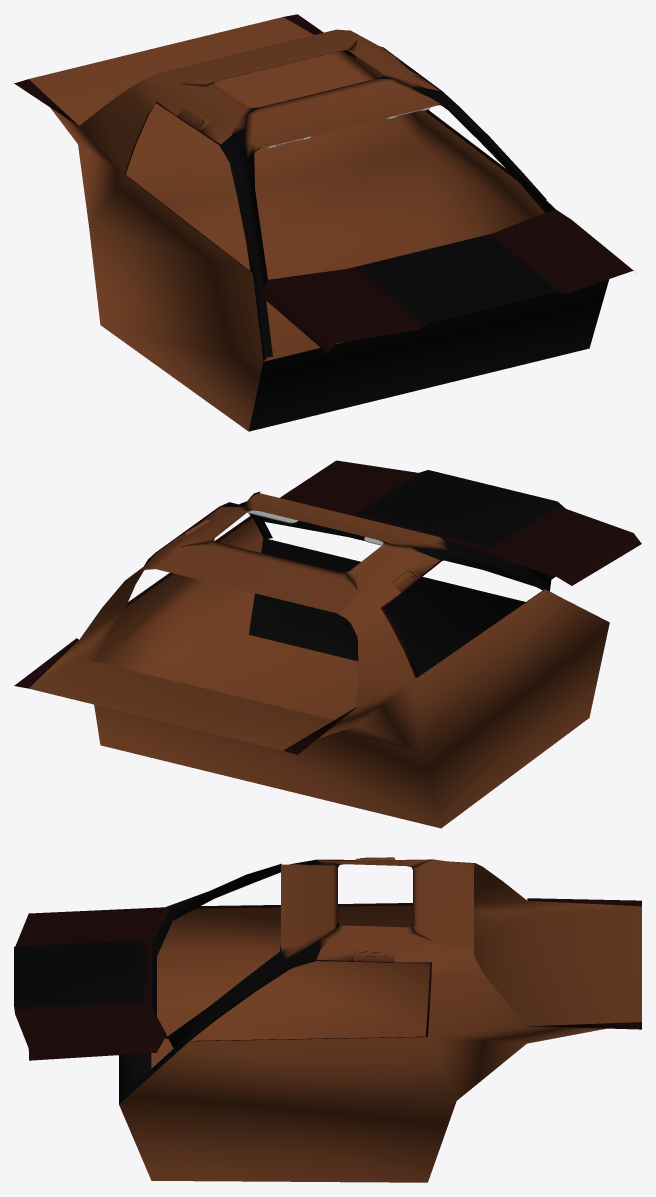
Rendered from VRCarBosy_V5 withVisors.fbx.
3 renders of one model, top to bottom at view 1: azimuth 30°, elevation 25°; view 2: azimuth 150°, elevation 25°; view 3: azimuth 270°, elevation 25°, orthographic. The views are drawn at different scales.
Parts seen in each view (by area): view 1: VRCarBody_V5; view 2: VRCarBody_V5; view 3: VRCarBody_V5.
Part boxes in pixels (x1=…): VRCarBody_V5: x1=14, y1=14, x2=633, y2=431; VRCarBody_V5: x1=14, y1=460, x2=641, y2=828; VRCarBody_V5: x1=14, y1=857, x2=641, y2=1182.
Bounding box in the file's own units: 195 × 121 × 328.
